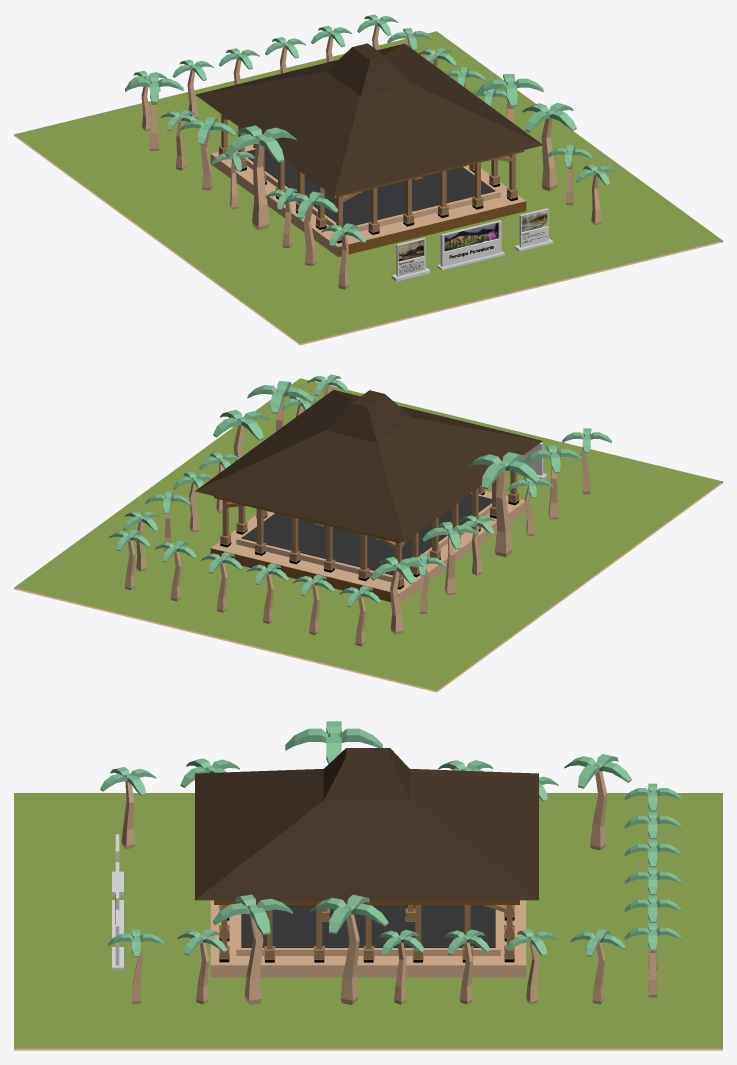
File: pendopo.glb
The picture shows the model from 3 angles, top to bottom: view 1: azimuth 30°, elevation 25°; view 2: azimuth 150°, elevation 25°; view 3: azimuth 270°, elevation 25°; orthographic projection. The views are drawn at different scales.
Visible parts, largest first — view 1: Plane, Cube.001, Group 30, Group 30.001, Cube.002, Plane.001, Plane.005, Plane.002, Plane.007, Plane.006; view 2: Plane, Cube.001, Group 30, Group 30.001, Plane.001, Cube.002, Plane.002; view 3: Plane, Cube.001, Group 30, Cube.002, Group 30.001, Plane.002, Cube, Plane.001.
Part boxes in pixels (left/top/right/bottom): Plane: left=14, top=31, right=722, bottom=345; Cube.001: left=195, top=43, right=542, bottom=196; Group 30: left=125, top=28, right=616, bottom=289; Group 30.001: left=127, top=14, right=398, bottom=131; Cube.002: left=326, top=43, right=412, bottom=96; Plane.001: left=218, top=114, right=518, bottom=243; Plane.005: left=440, top=220, right=501, bottom=266; Plane.002: left=238, top=126, right=500, bottom=229; Plane.007: left=519, top=208, right=548, bottom=247; Plane.006: left=396, top=238, right=425, bottom=276; Plane: left=14, top=378, right=722, bottom=692; Cube.001: left=195, top=389, right=542, bottom=542; Group 30: left=123, top=374, right=611, bottom=634; Group 30.001: left=108, top=529, right=381, bottom=646; Plane.001: left=220, top=471, right=519, bottom=589; Cube.002: left=326, top=390, right=411, bottom=442; Plane.002: left=236, top=476, right=498, bottom=577; Plane: left=14, top=793, right=722, bottom=1050; Cube.001: left=195, top=768, right=538, bottom=900; Group 30: left=100, top=721, right=631, bottom=1004; Cube.002: left=323, top=748, right=409, bottom=800; Group 30.001: left=624, top=783, right=680, bottom=997; Plane.002: left=264, top=905, right=473, bottom=962; Cube: left=214, top=900, right=519, bottom=904; Plane.001: left=219, top=905, right=514, bottom=962.
Size of the model in its own units: 24.28 by 7.54 by 28.45.
13 materials, 3 textured.
